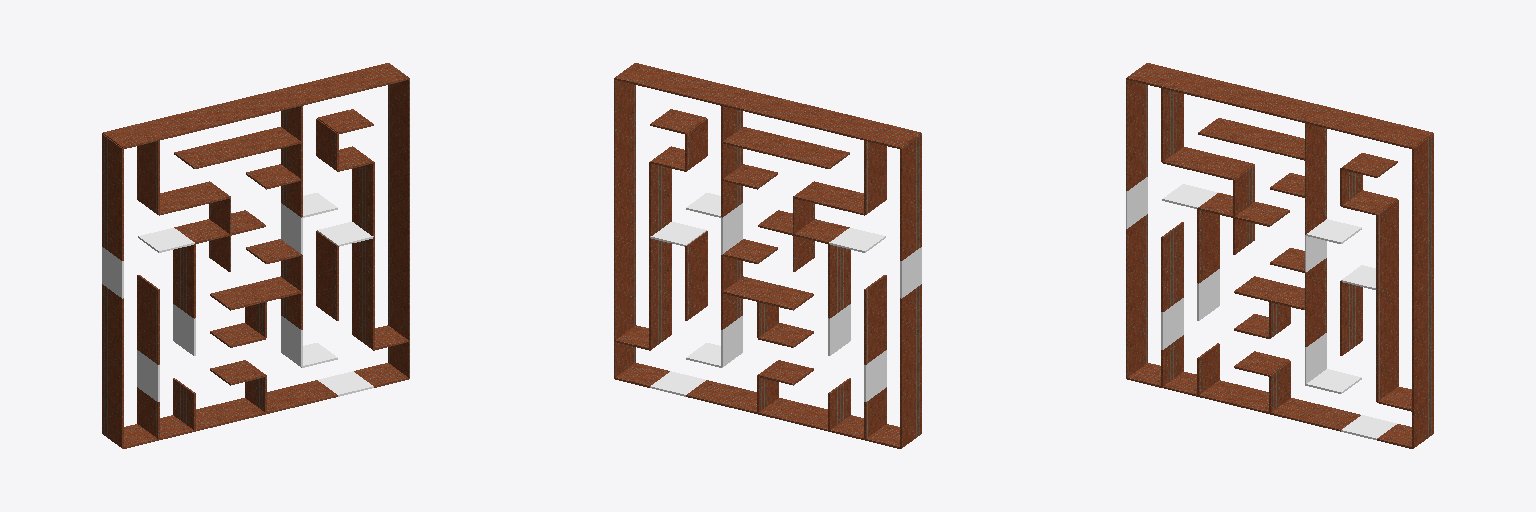
3 renders of one model, left to right at view 1: azimuth 30°, elevation 25°; view 2: azimuth 150°, elevation 25°; view 3: azimuth 330°, elevation 25°, orthographic.
Visible parts, largest first — view 1: visual_wall_1, visual_wall_3, visual_wall_4; view 2: visual_wall_1, visual_wall_3, visual_wall_4; view 3: visual_wall_1, visual_wall_4, visual_wall_3.
Boxes of the visible parts, <box> form: visual_wall_1: <box>102,63,409,448</box>; visual_wall_3: <box>102,203,373,401</box>; visual_wall_4: <box>138,193,337,367</box>; visual_wall_1: <box>614,63,921,448</box>; visual_wall_3: <box>650,203,921,401</box>; visual_wall_4: <box>686,193,885,367</box>; visual_wall_1: <box>1126,63,1433,448</box>; visual_wall_4: <box>1162,184,1361,393</box>; visual_wall_3: <box>1126,177,1396,439</box>.
Bounding box in the file's own units: 8.05 × 8.05 × 1.
Materials: 3 (1 with a texture image).